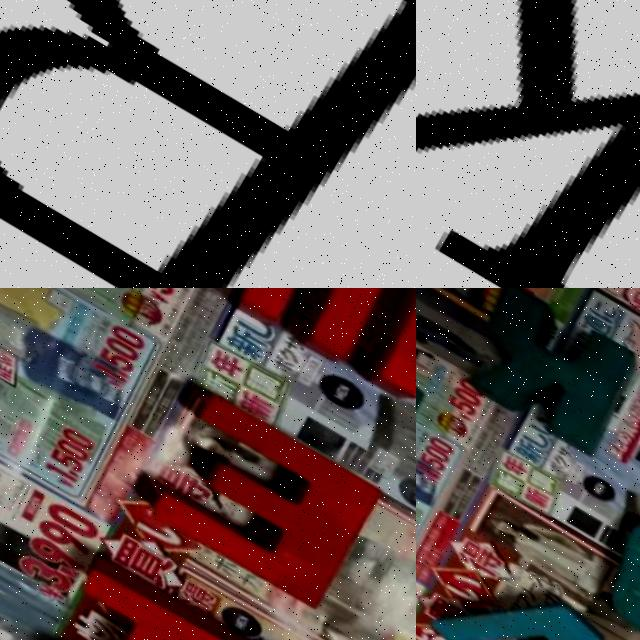D: (572, 503, 640, 640)
E: (112, 378, 383, 617)
I: (0, 541, 275, 640)
K: (416, 0, 640, 288), (442, 288, 640, 461)
V: (416, 548, 609, 640)
W: (211, 288, 416, 421)
